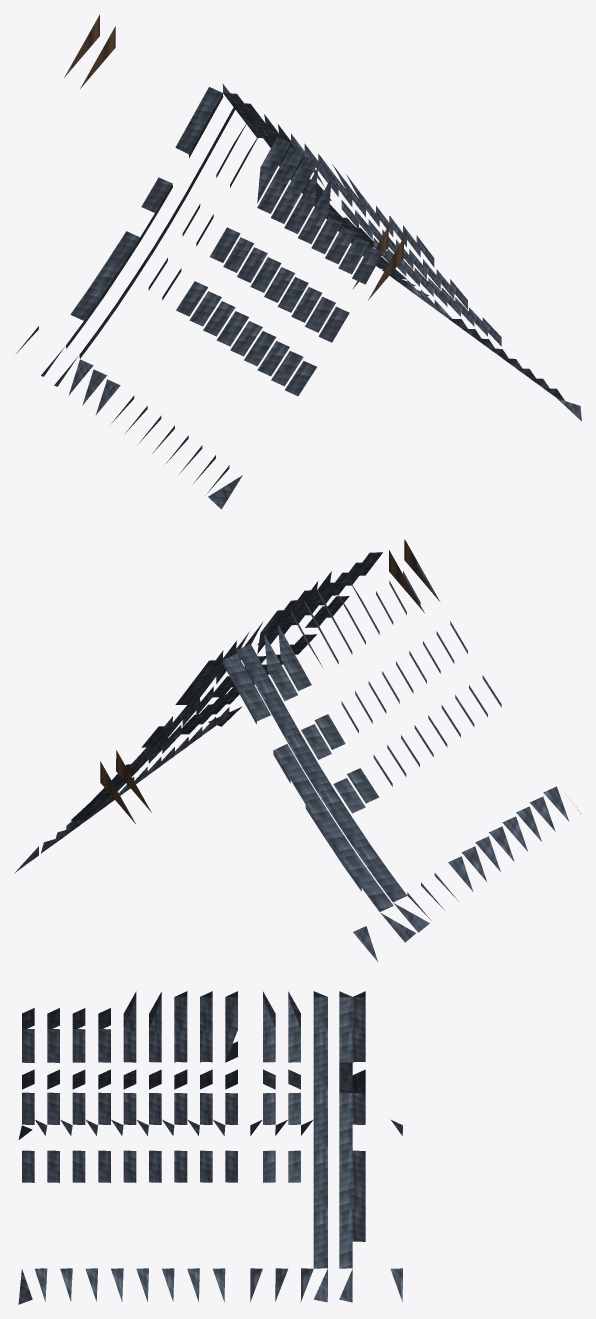
The model's file is Roof_Slate_6x10_LOD2.gltf.
3 renders of one model, top to bottom at view 1: azimuth 30°, elevation 25°; view 2: azimuth 150°, elevation 25°; view 3: azimuth 270°, elevation 25°, orthographic. The views are drawn at different scales.
Parts seen in each view (by area): view 1: Roof_Slate_6x10_LOD2; view 2: Roof_Slate_6x10_LOD2; view 3: Roof_Slate_6x10_LOD2.
Boxes of the visible parts, x1=… form: Roof_Slate_6x10_LOD2: x1=16, y1=14, x2=581, y2=509; Roof_Slate_6x10_LOD2: x1=14, y1=539, x2=580, y2=961; Roof_Slate_6x10_LOD2: x1=18, y1=991, x2=402, y2=1304.
Size of the model in its own units: 8.25 by 5.17 by 11.66.
Materials: 2 (2 with a texture image).
